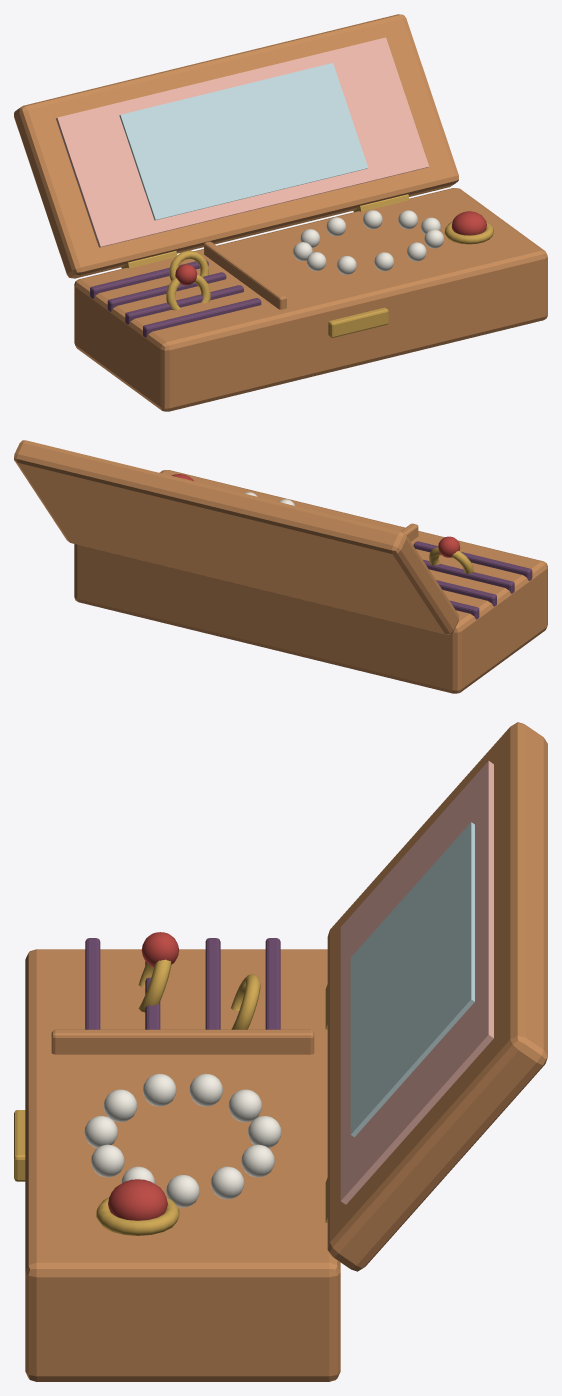
The model's file is hh_cat_jewellery_box.glb.
The picture shows the model from 3 angles, top to bottom: view 1: azimuth 30°, elevation 25°; view 2: azimuth 150°, elevation 25°; view 3: azimuth 270°, elevation 25°; orthographic projection. The views are drawn at different scales.
Visible parts, largest first — view 1: base, lid, mirror, lid_lining, divider, clasp, ring_slot, ring_slot.001, ring_slot.002, ring_slot.003, brooch, ring (+2 smaller); view 2: lid, base, ring_slot, ring_slot.001, ring_slot.002, ring, gem; view 3: base, lid, mirror, lid_lining, divider, brooch, brooch.001, ring_slot, ring_slot.002, ring_slot.003, ring.001, ring (+12 smaller).
Boxes of the visible parts, x1,y1,x2,y2 form: base: (74, 188, 547, 411); lid: (14, 14, 458, 278); mirror: (119, 63, 368, 220); lid_lining: (56, 37, 429, 247); divider: (204, 241, 286, 309); clasp: (328, 307, 388, 337); ring_slot: (143, 298, 261, 337); ring_slot.001: (125, 285, 243, 324); ring_slot.002: (107, 272, 226, 311); ring_slot.003: (90, 260, 208, 298); brooch: (451, 211, 486, 235); ring: (166, 274, 210, 310); lid: (14, 440, 458, 634); base: (74, 470, 547, 693); ring_slot: (413, 541, 532, 580); ring_slot.001: (423, 559, 514, 593); ring_slot.002: (436, 580, 496, 606); ring: (429, 547, 473, 573); gem: (438, 536, 460, 557); base: (25, 949, 340, 1381); lid: (327, 722, 547, 1271); mirror: (350, 822, 474, 1137); lid_lining: (340, 761, 493, 1204); divider: (51, 1029, 314, 1054); brooch: (108, 1179, 167, 1220); brooch.001: (96, 1197, 179, 1235); ring_slot: (85, 938, 100, 1029); ring_slot.002: (205, 938, 220, 1029); ring_slot.003: (265, 938, 280, 1029); ring.001: (231, 974, 260, 1029); ring: (138, 959, 171, 1012).
Size of the model in its own units: 0.2 by 0.1 by 0.14.
